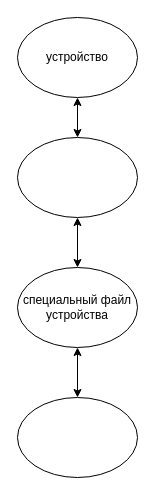
Image size: 155x495. Some labels were removed from this diagram. Each missing label, with the centre of its shape:
"программа пользователя" belongs at point (77, 437).
"ядро" belongs at point (77, 177).
